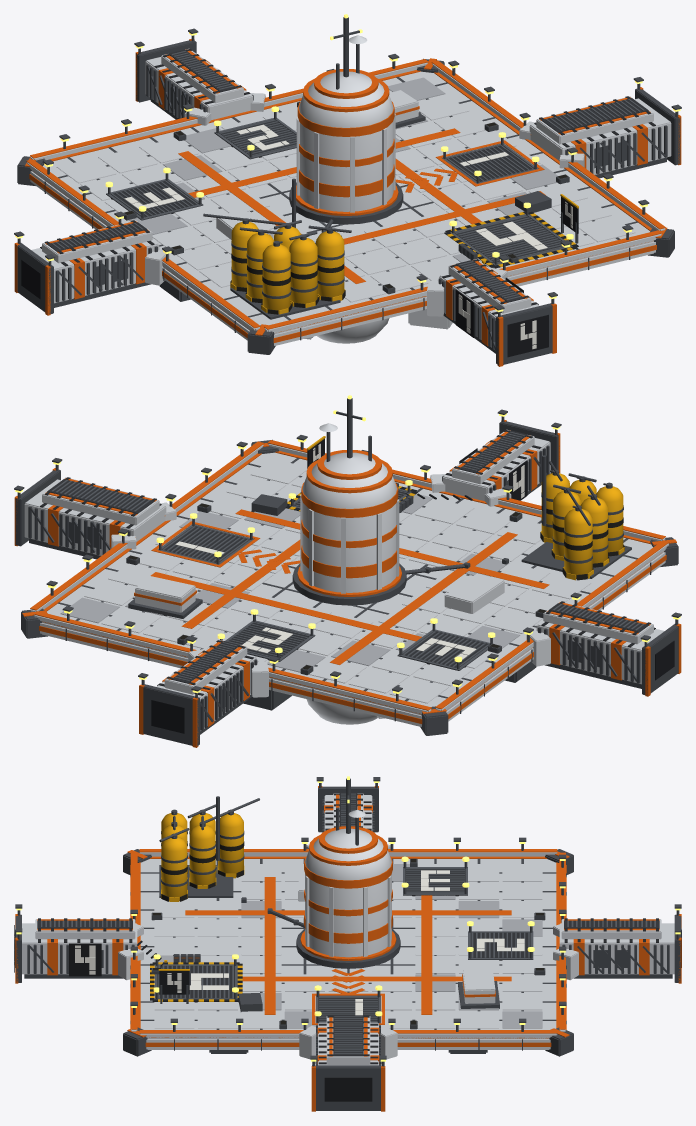
File: station.glb
3 views of the same model, one above another, from view 1: azimuth 30°, elevation 25°; view 2: azimuth 150°, elevation 25°; view 3: azimuth 270°, elevation 25° (orthographic). The views are drawn at different scales.
Parts seen in each view (by area): view 1: station_hull_plate, station_outposts_orange, station_dark_steel, station_rib_steel, station_pad_steel, station_safety_yellow, station_hull_plate_dark, station_dock_mouth, station_paint_white, station_arm_seam, station_sodium_lamp, station_tank_stencil (+1 smaller); view 2: station_hull_plate, station_outposts_orange, station_dark_steel, station_rib_steel, station_pad_steel, station_safety_yellow, station_hull_plate_dark, station_dock_mouth, station_arm_seam, station_paint_white, station_sodium_lamp, station_tank_stencil; view 3: station_hull_plate, station_outposts_orange, station_dark_steel, station_rib_steel, station_pad_steel, station_safety_yellow, station_hull_plate_dark, station_dock_mouth, station_paint_white, station_arm_seam, station_sodium_lamp, station_tank_stencil (+1 smaller).
Boxes of the visible parts, x1,y1,x2,y2 form: station_hull_plate: [27, 35, 671, 349]; station_outposts_orange: [14, 39, 681, 366]; station_dark_steel: [14, 17, 681, 364]; station_rib_steel: [51, 50, 644, 300]; station_pad_steel: [47, 49, 648, 302]; station_safety_yellow: [230, 194, 578, 314]; station_hull_plate_dark: [129, 77, 557, 267]; station_dock_mouth: [21, 197, 578, 357]; station_paint_white: [124, 124, 572, 349]; station_arm_seam: [40, 49, 655, 314]; station_sodium_lamp: [15, 14, 680, 312]; station_tank_stencil: [124, 102, 567, 314]; station_hull_plate: [24, 423, 668, 730]; station_outposts_orange: [14, 420, 681, 747]; station_dark_steel: [14, 398, 681, 745]; station_rib_steel: [51, 431, 644, 681]; station_pad_steel: [47, 430, 648, 683]; station_safety_yellow: [287, 436, 624, 580]; station_hull_plate_dark: [60, 493, 520, 672]; station_dock_mouth: [151, 438, 674, 733]; station_arm_seam: [40, 430, 655, 695]; station_paint_white: [175, 443, 524, 659]; station_sodium_lamp: [15, 395, 680, 693]; station_tank_stencil: [128, 483, 624, 669]; station_hull_plate: [22, 793, 674, 1065]; station_outposts_orange: [15, 786, 681, 1111]; station_dark_steel: [15, 777, 681, 1110]; station_rib_steel: [41, 793, 655, 1054]; station_pad_steel: [37, 792, 659, 1056]; station_safety_yellow: [150, 813, 244, 1001]; station_hull_plate_dark: [154, 864, 542, 1028]; station_dock_mouth: [14, 925, 681, 1101]; station_paint_white: [14, 870, 524, 1015]; station_arm_seam: [38, 793, 658, 1064]; station_sodium_lamp: [16, 776, 680, 1061]; station_tank_stencil: [153, 841, 543, 1024].
Bounding box in the file's own units: 307 × 149 × 307.
